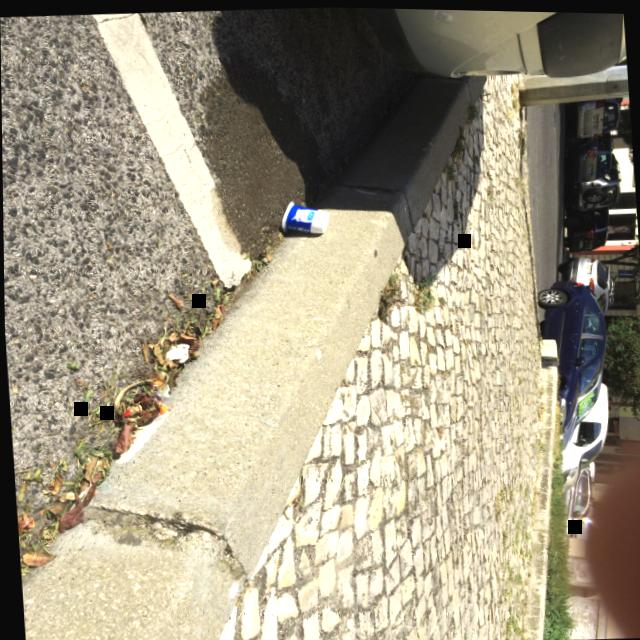Plastic film: (152, 385, 174, 416)
Spread tub: (281, 200, 329, 231)
Tissues: (165, 343, 188, 360)
